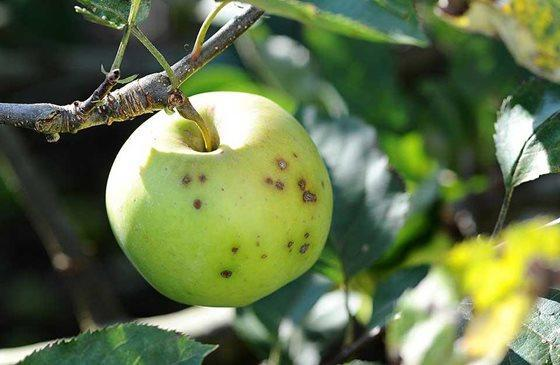apple: (104, 87, 337, 311)
